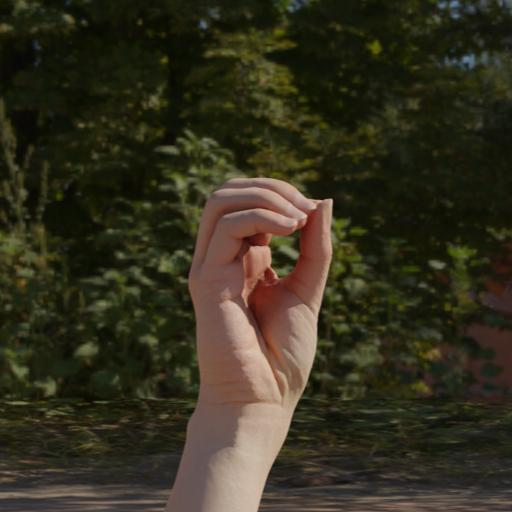O: (170, 149, 344, 424)
